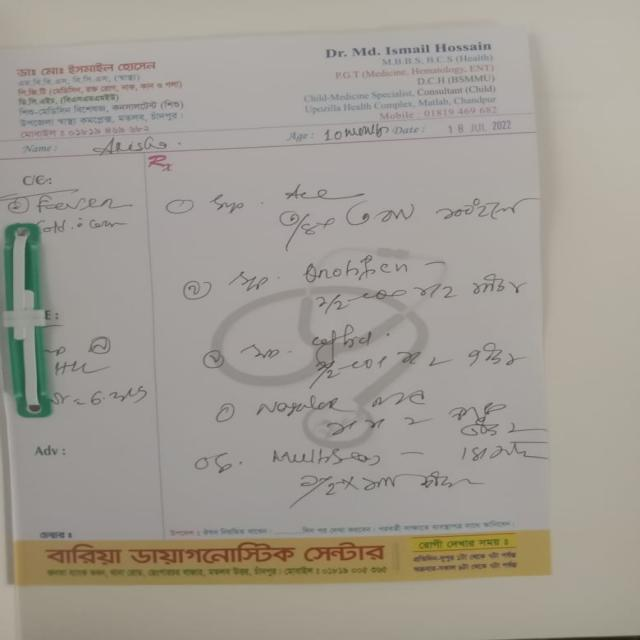Ace: (275, 180, 341, 205)
Multi Seas: (265, 441, 385, 473)
Nasalox: (251, 395, 359, 422)
Orotifen: (286, 258, 417, 283)
